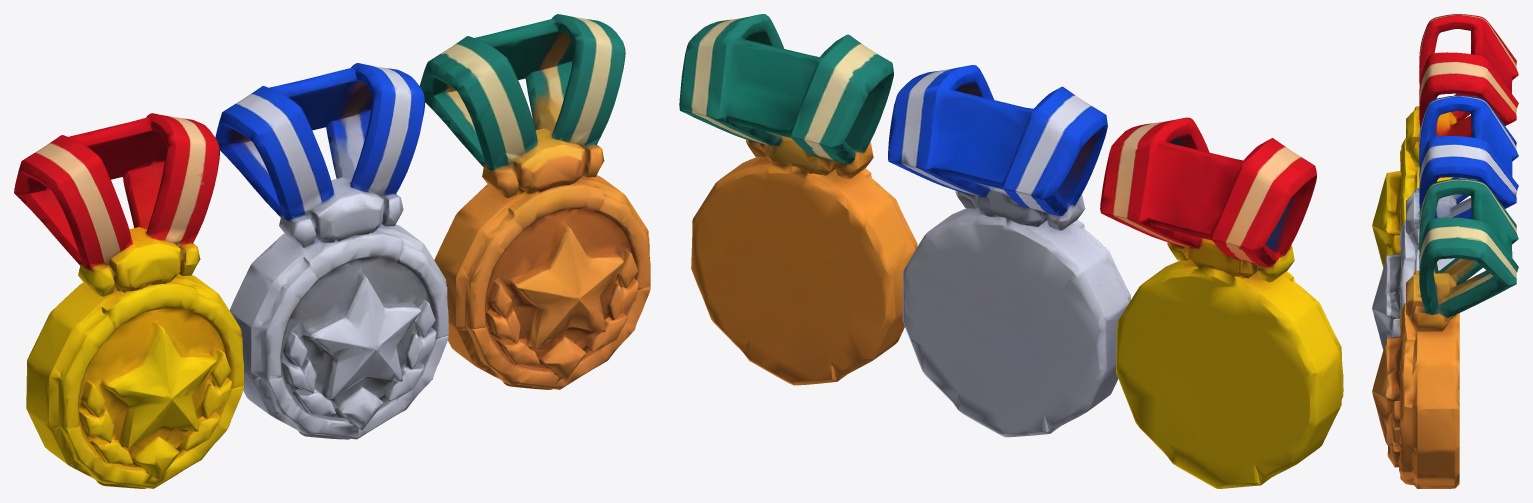
Rendered from medals.glb.
3 renders of one model, left to right at view 1: azimuth 30°, elevation 25°; view 2: azimuth 150°, elevation 25°; view 3: azimuth 270°, elevation 25°, orthographic. The views are drawn at different scales.
Parts seen in each view (by area): view 1: tripo_node_38ce98a0-6370-4ca4-a1a4-edaacc975c53; view 2: tripo_node_38ce98a0-6370-4ca4-a1a4-edaacc975c53; view 3: tripo_node_38ce98a0-6370-4ca4-a1a4-edaacc975c53.
Part boxes in pixels (x1,y1,x2,y2): tripo_node_38ce98a0-6370-4ca4-a1a4-edaacc975c53: (14, 14, 650, 488); tripo_node_38ce98a0-6370-4ca4-a1a4-edaacc975c53: (679, 14, 1343, 488); tripo_node_38ce98a0-6370-4ca4-a1a4-edaacc975c53: (1372, 14, 1518, 488).
Bounding box in the file's own units: 1 × 0.5416 × 0.2539.
Materials: 1 (1 with a texture image).
